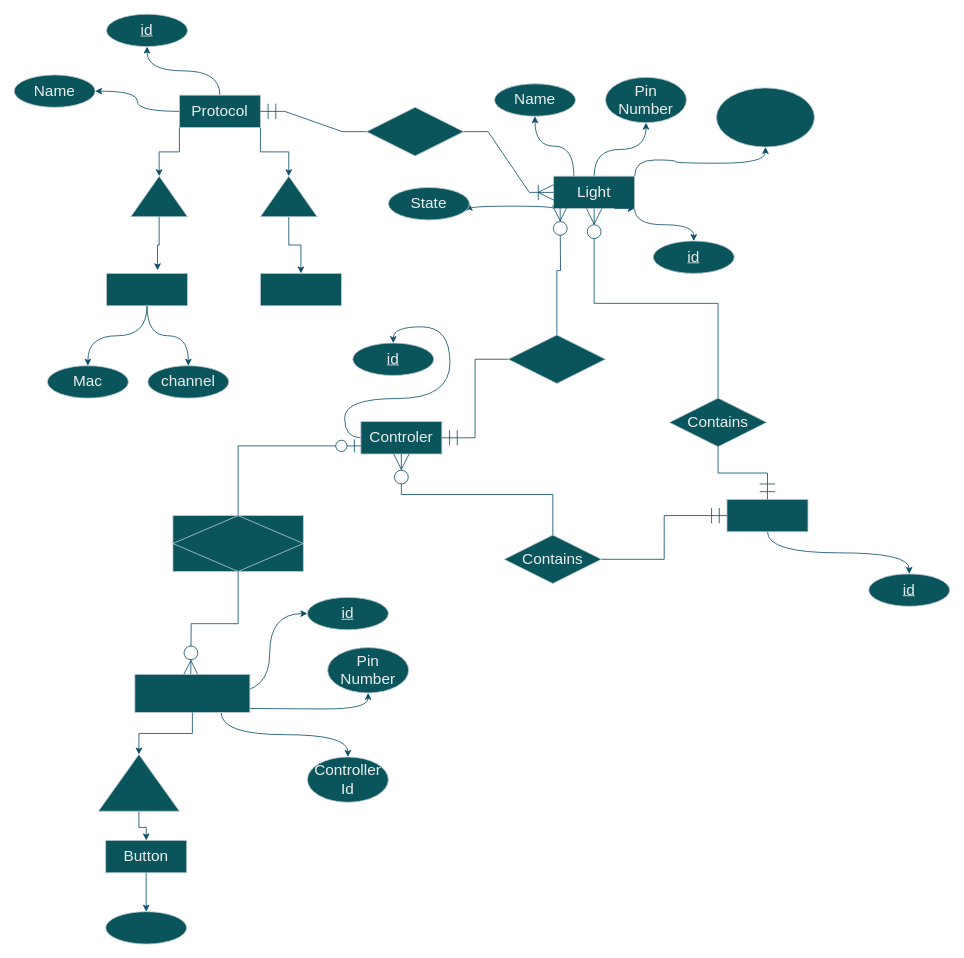
The diagram is 964 pixels wide and 958 high, and some of its shapes have lost their labels. Here are the shapes that lost their labels. From the top down, the centre of each, then its label:
the point at 415,131: Use
the point at 765,117: NumberON Light
the point at 147,289: wireless
the point at 300,289: wired
the point at 556,359: Control
the point at 767,515: Room
the point at 237,543: Send signal
the point at 192,693: ControlSource
the point at 146,927: Type
